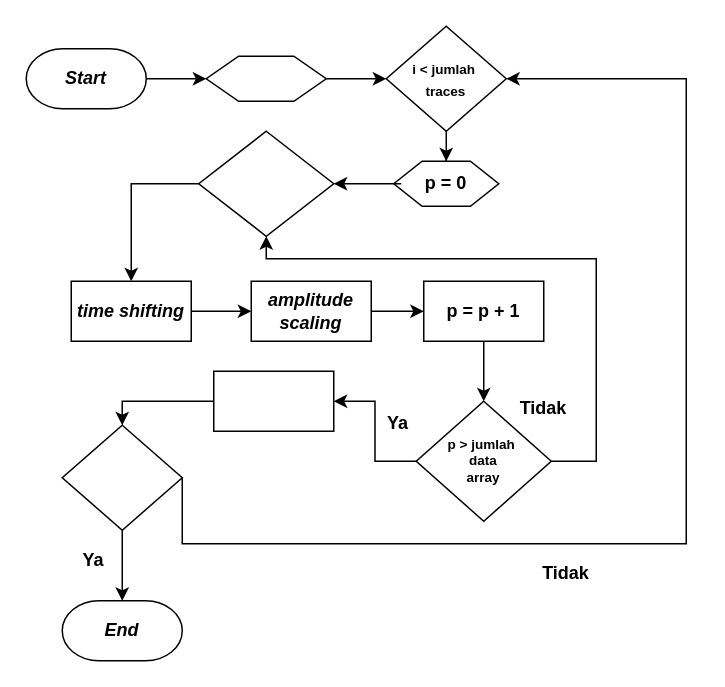
The diagram is 725 pixels wide and 687 high, and some of its shapes have lost their labels. Each missing label, with the box of its shape:
i = 0: (205, 55, 326, 101)
i = i + 1: (212, 370, 334, 431)
i > jumlah traces: (61, 424, 182, 530)
p < jumlah data array: (197, 130, 334, 236)
